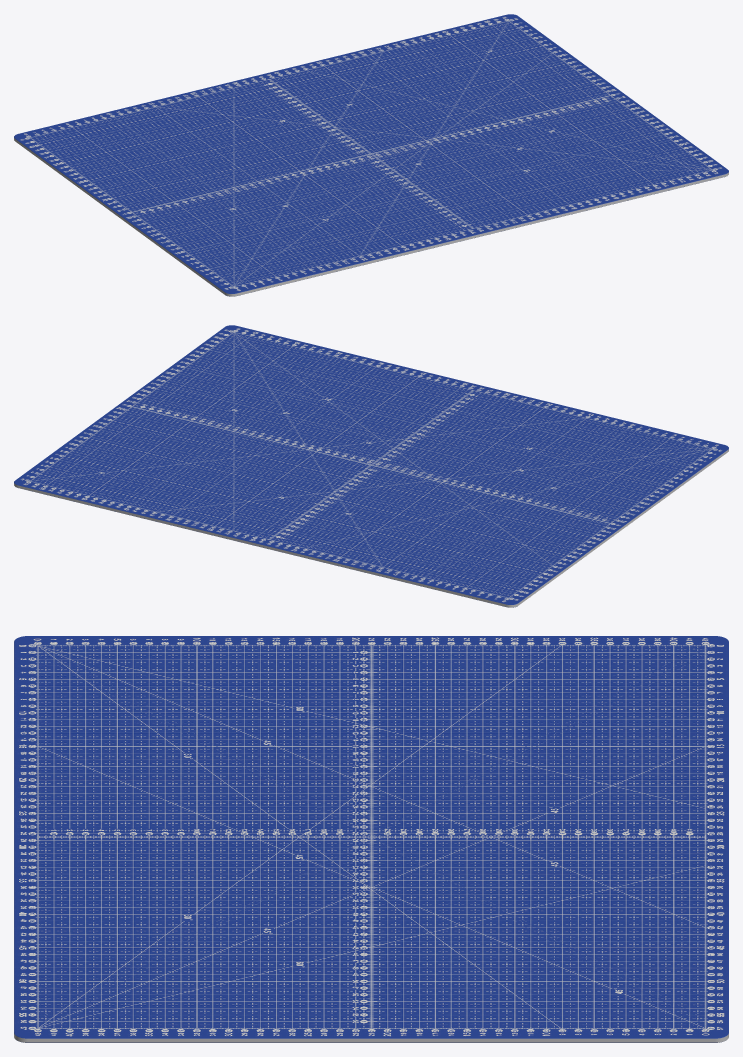
File: metric_cutting_mat_100pixels_per_cm_unit.glb
3 views of the same model, one above another, from view 1: azimuth 30°, elevation 25°; view 2: azimuth 150°, elevation 25°; view 3: azimuth 270°, elevation 25° (orthographic). The views are drawn at different scales.
Visible parts, largest first — view 1: Object_2; view 2: Object_2; view 3: Object_2.
Part boxes in pixels (box(x1,y1,x2,y2)): Object_2: box(14, 14, 728, 296); Object_2: box(14, 325, 728, 607); Object_2: box(14, 636, 728, 1042).
Bounding box in the file's own units: 60.6 × 0.3419 × 45.5.
Materials: 1 (1 with a texture image).
